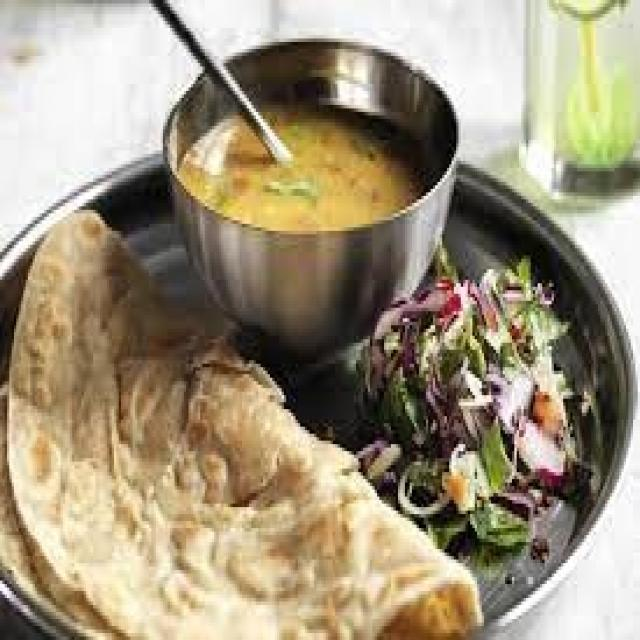Daal: (168, 73, 463, 270)
Roti: (19, 199, 488, 640)
